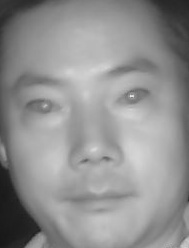eye: (21, 94, 63, 117), (113, 86, 154, 109)
mouth: (59, 176, 138, 217)
